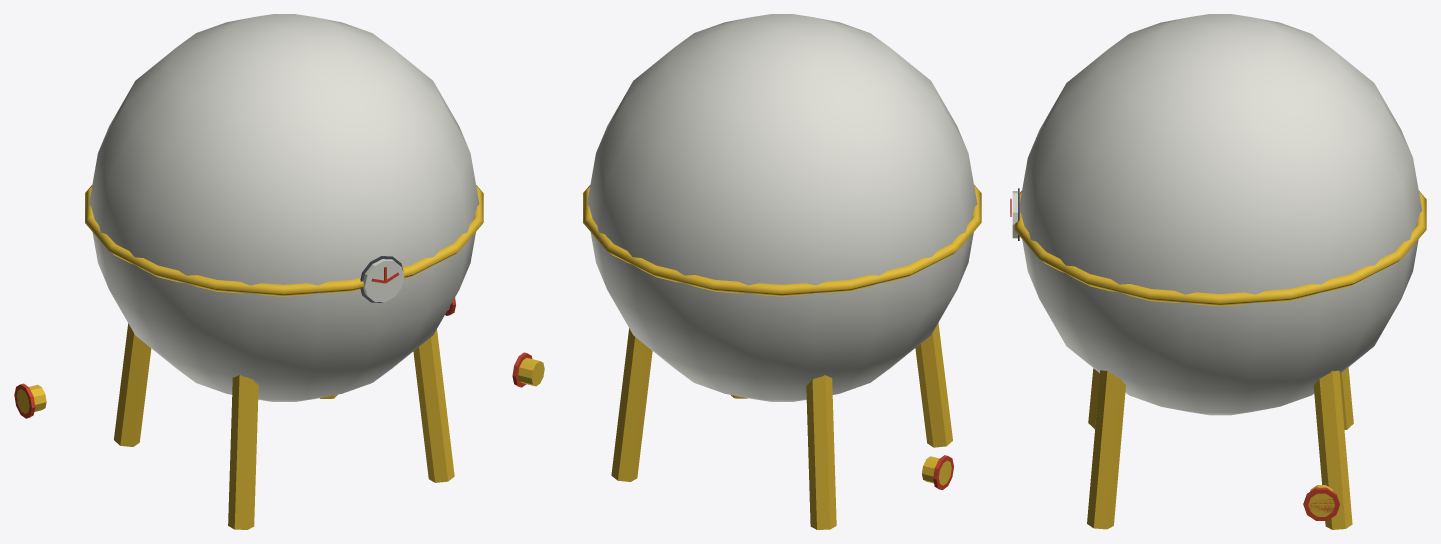
The model's file is GasTank.fbx.
3 renders of one model, left to right at view 1: azimuth 30°, elevation 25°; view 2: azimuth 150°, elevation 25°; view 3: azimuth 270°, elevation 25°, orthographic. The views are drawn at different scales.
Visible parts, largest first — view 1: GasTank_Body; view 2: GasTank_Body; view 3: GasTank_Body.
Boxes of the visible parts, x1,y1,x2,y2 form: GasTank_Body: [14, 14, 483, 529]; GasTank_Body: [512, 14, 981, 529]; GasTank_Body: [1012, 14, 1426, 529].
Size of the model in its own units: 1.5 by 1.45 by 1.23.
